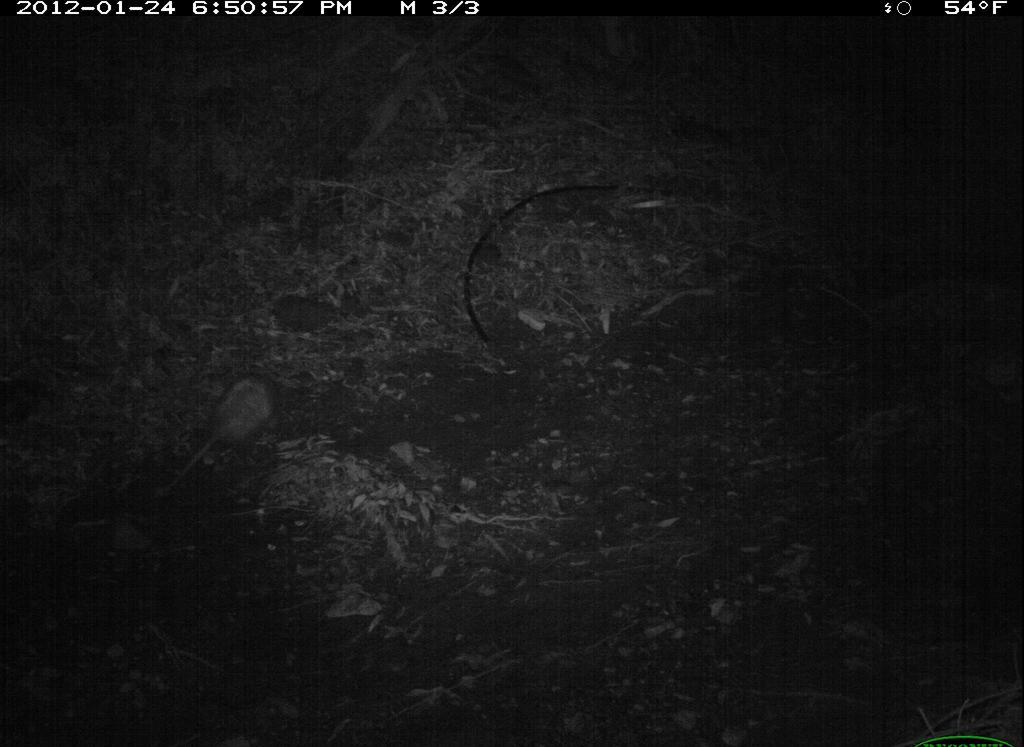opossum: (162, 373, 299, 498)
